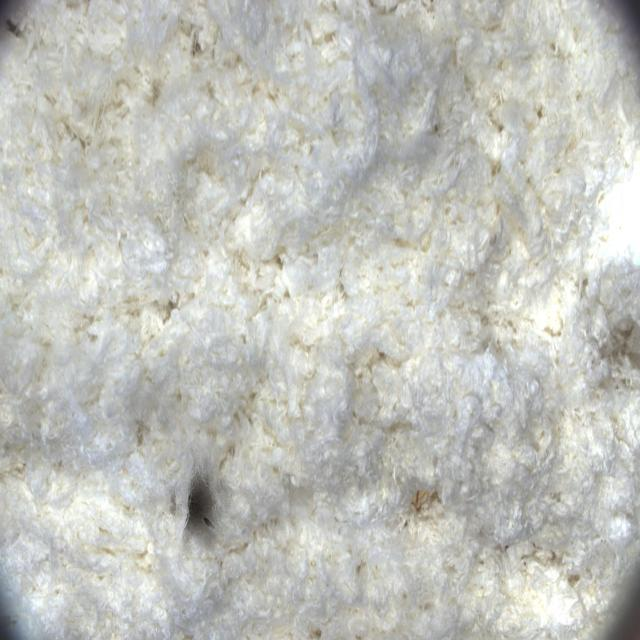dust: (151, 439, 258, 570)
